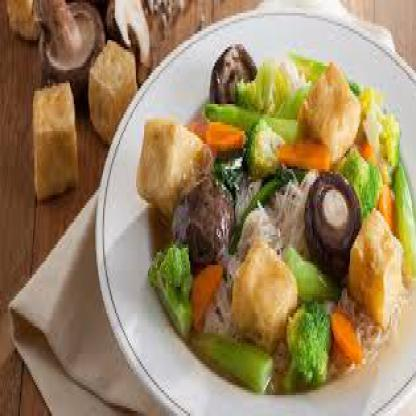Laadna: (131, 34, 405, 411)
